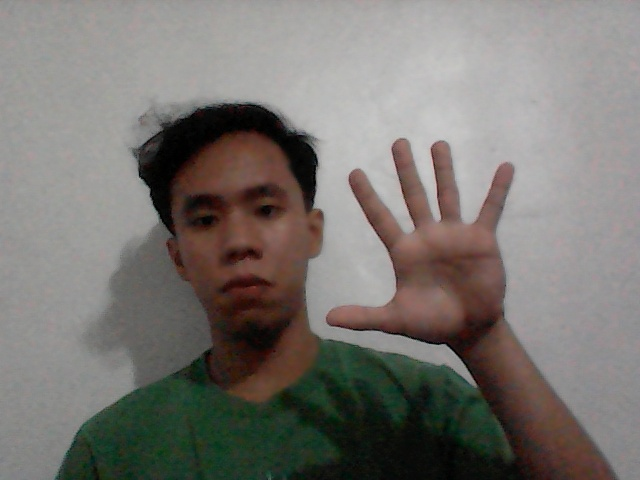Hello: (322, 133, 543, 361)
